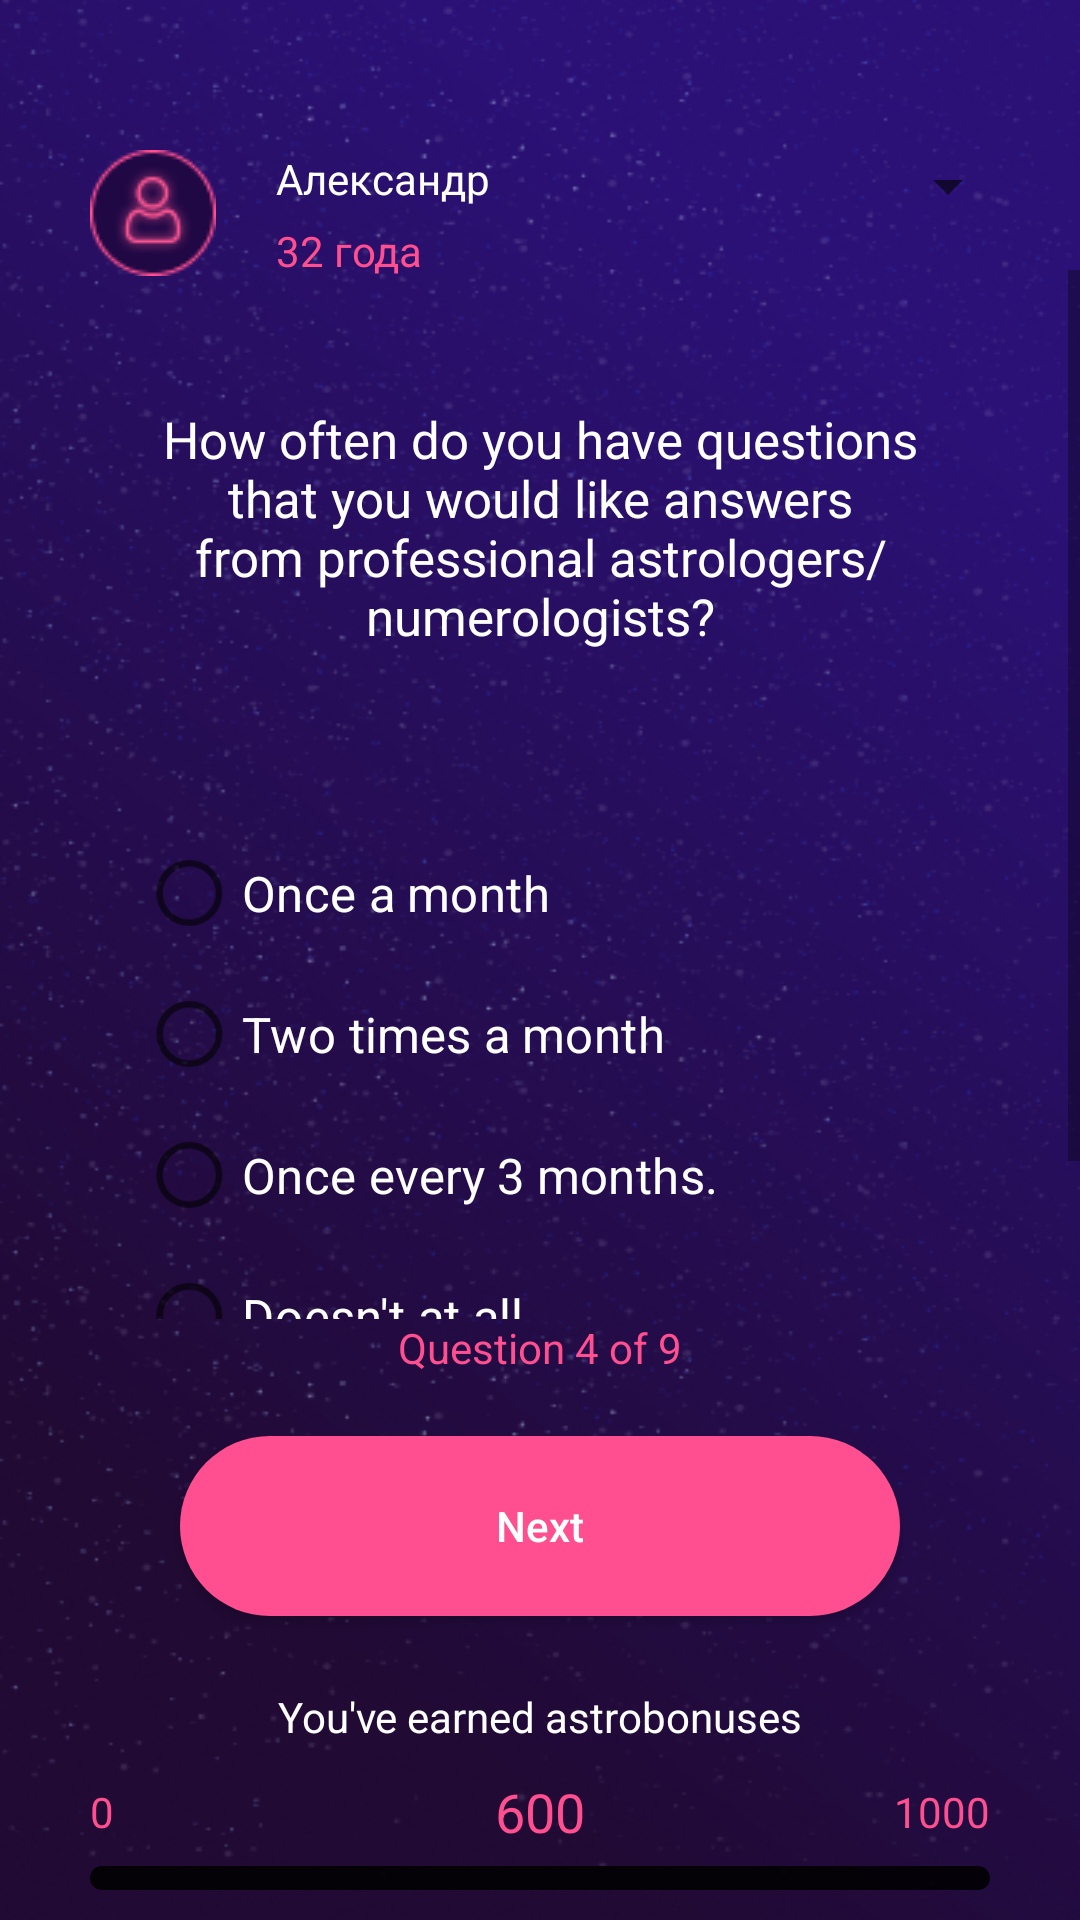

Icon bounding boxes for this 1080px x 1920px phone screenshot, format (x1, y1, x2, y2):
user: (90, 150, 216, 276)
